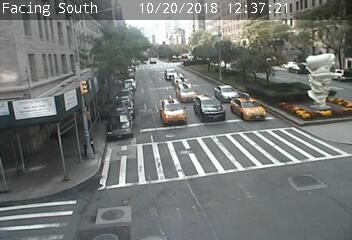car: (195, 95, 226, 122), (229, 97, 265, 120), (160, 98, 187, 124), (214, 86, 240, 102), (176, 86, 196, 101), (173, 75, 188, 86), (165, 68, 178, 79)
